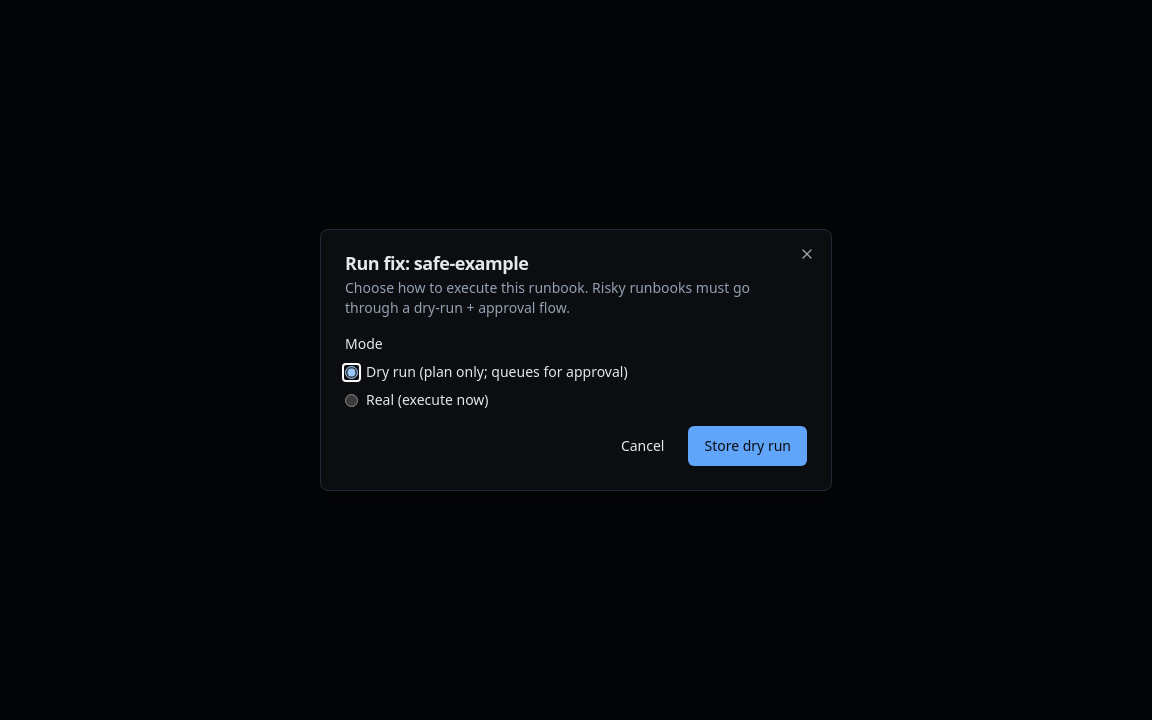
Test case: RunFixDialog › renders ConfirmPinDialog instead of ConfirmPhraseDialog for real mode when usePinStatus returns set:true
Click the radio button with test id "run-fix-mode-real" at (352, 400), box [345,394,358,406]
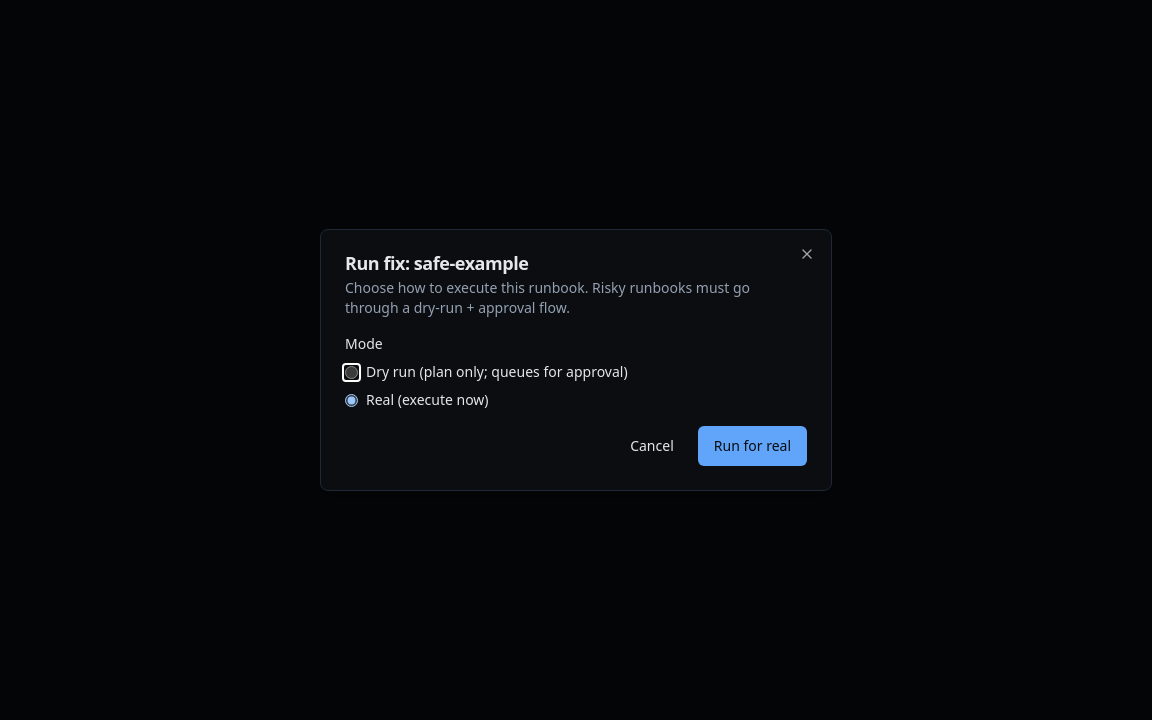
Click the button with test id "run-fix-submit" at (752, 446), box [698,426,807,466]
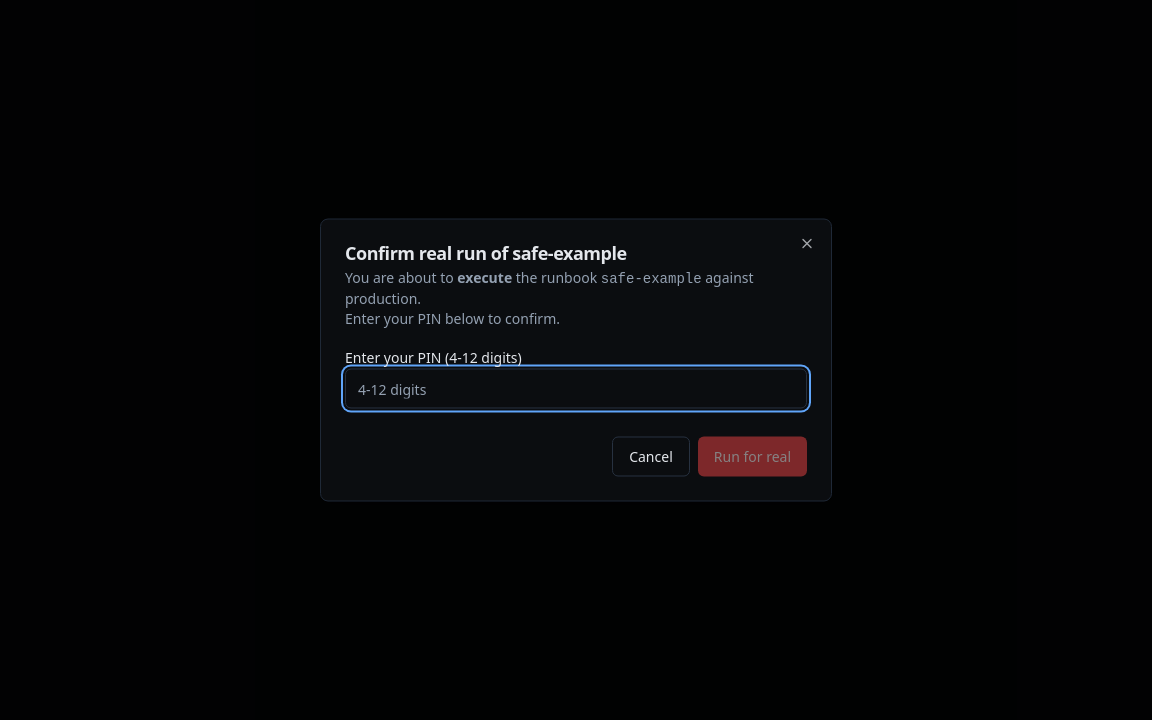
Result: the password field labelled "PIN" is shown at [345,368,807,408]
